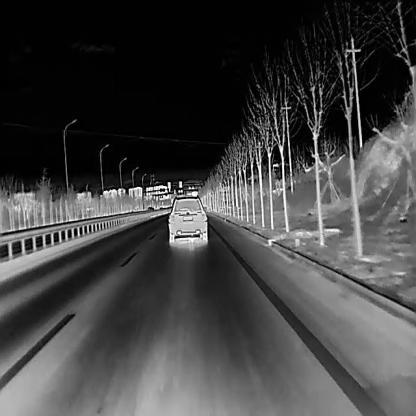car: (167, 194, 208, 246)
